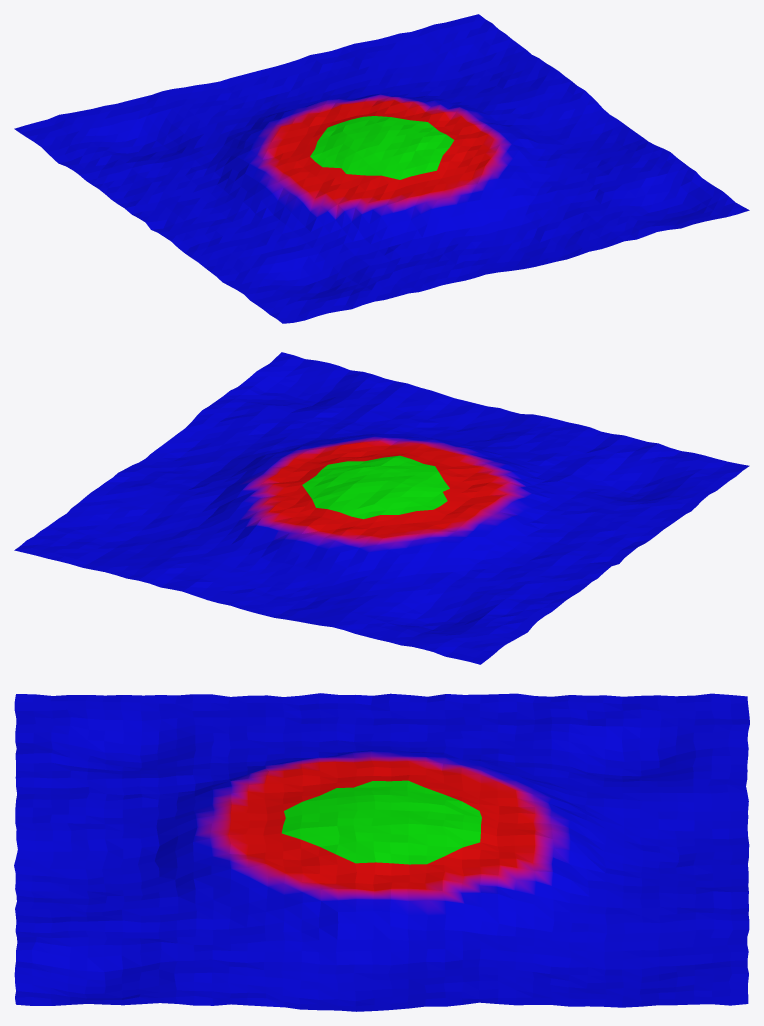
Rendered from island.fbx.
3 renders of one model, top to bottom at view 1: azimuth 30°, elevation 25°; view 2: azimuth 150°, elevation 25°; view 3: azimuth 270°, elevation 25°, orthographic. The views are drawn at different scales.
Visible parts, largest first — view 1: Island; view 2: Island; view 3: Island.
Boxes of the visible parts, left/top/right/bottom form: Island: left=14, top=14, right=749, bottom=323; Island: left=14, top=352, right=749, bottom=664; Island: left=14, top=693, right=749, bottom=1011.
Size of the model in its own units: 8044 by 634 by 8043.
